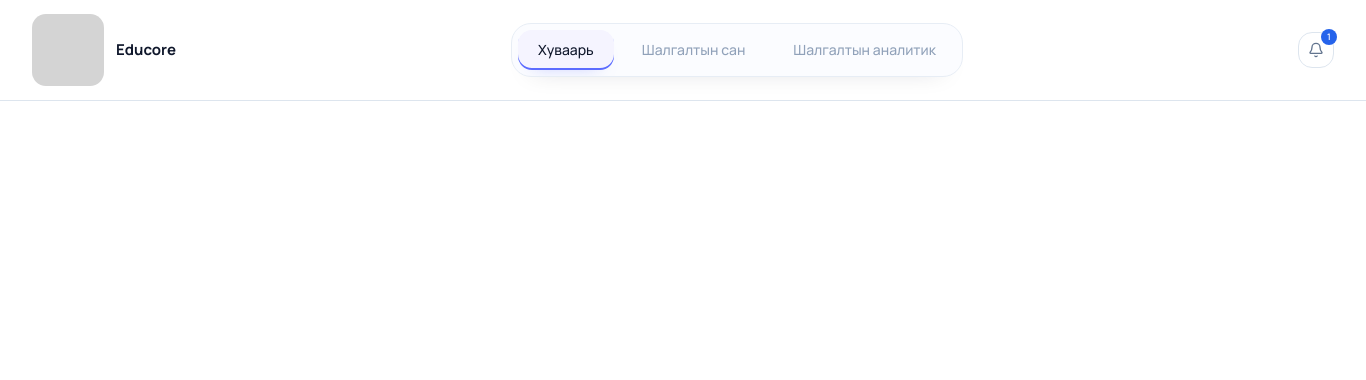
TeacherHeader › shows Mongolian severity labels
The image size is (1366, 380).
Click the button named "Мэдэгдэл". click: (1316, 50)
box: x1=1298 y1=32 x2=1334 y2=68
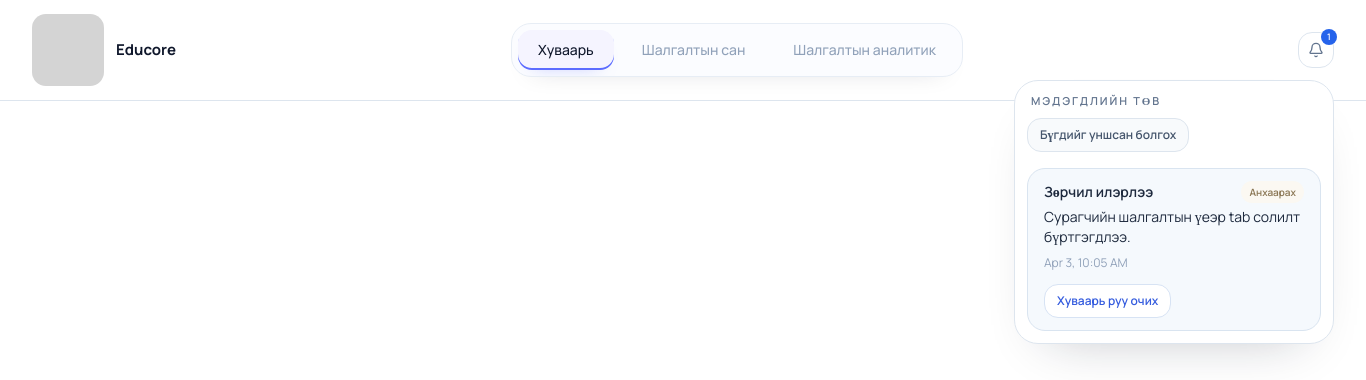
expect the text "Анхаарах" is shown: met, box x1=1241 y1=180 x2=1304 y2=203
expect the button "Хуваарь руу очих" is shown: met, box x1=1044 y1=284 x2=1171 y2=318
